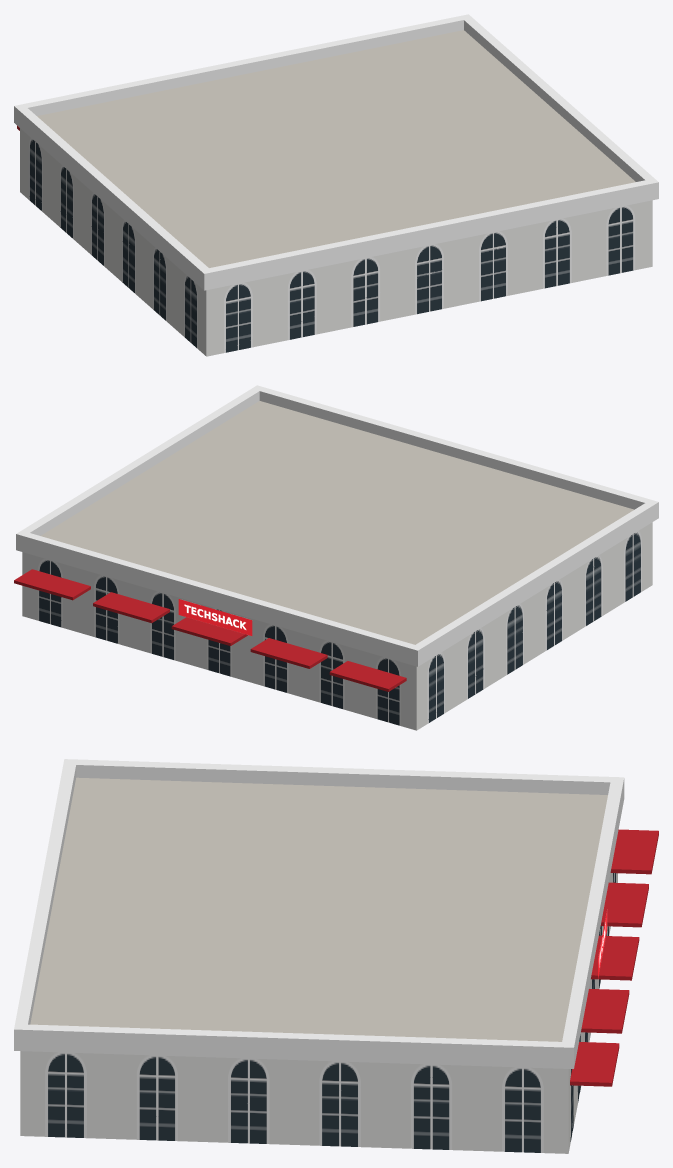
File: techshack.glb
3 views of the same model, one above another, from view 1: azimuth 30°, elevation 25°; view 2: azimuth 150°, elevation 25°; view 3: azimuth 270°, elevation 25° (orthographic). The views are drawn at different scales.
Parts seen in each view (by area): view 1: techshack_lod0; view 2: techshack_lod0; view 3: techshack_lod0.
Part boxes in pixels (bbox=[...]): techshack_lod0: bbox=[14, 14, 658, 356]; techshack_lod0: bbox=[14, 385, 658, 730]; techshack_lod0: bbox=[14, 759, 658, 1153].
Size of what is drawn, in the model's own units: 29.04 by 5.1 by 27.41.
Materials: 5 (2 with a texture image).
